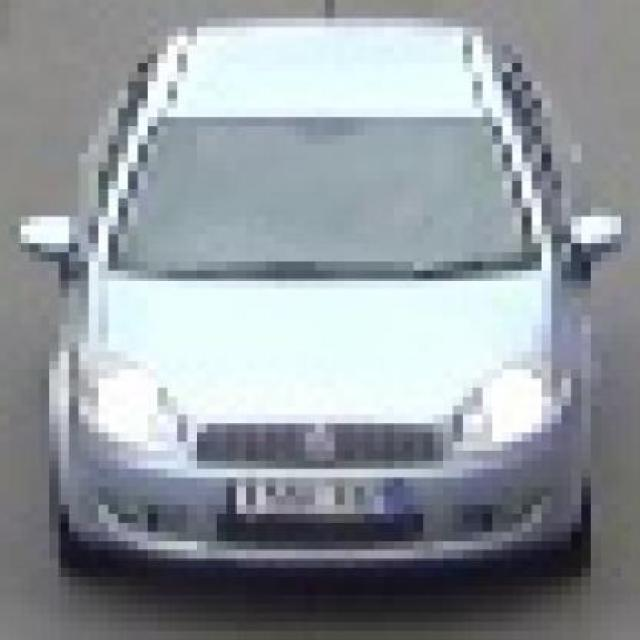vehicle: (13, 16, 632, 584)
